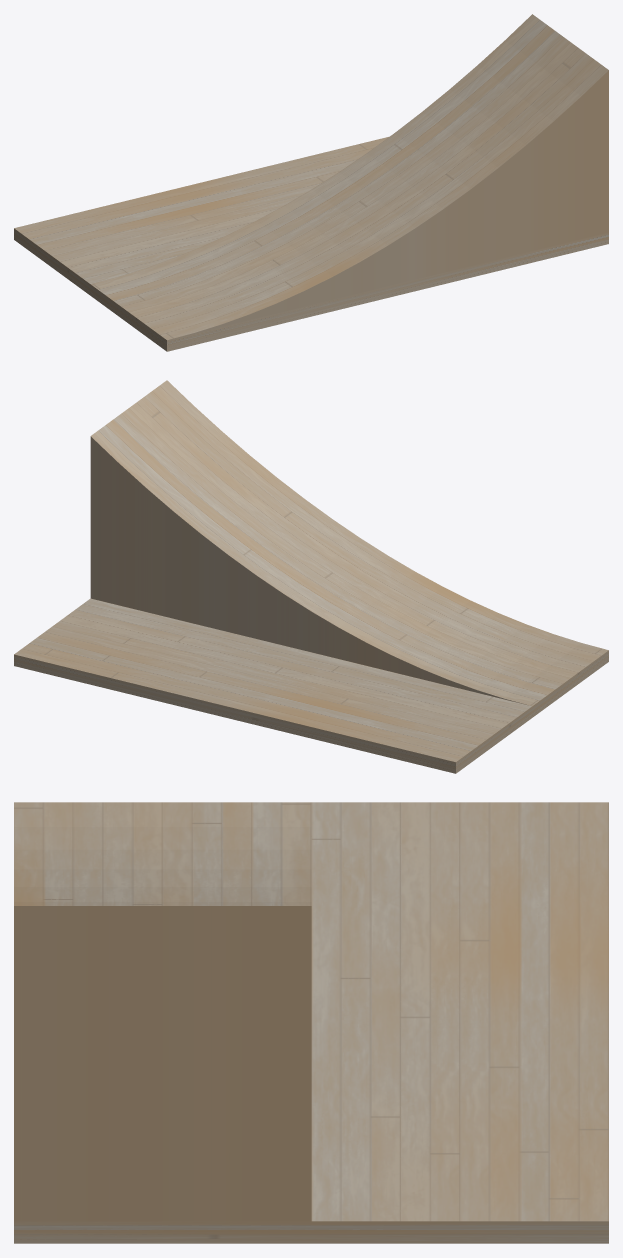
Rendered from @Tag.Ground.5.obj.
3 renders of one model, top to bottom at view 1: azimuth 30°, elevation 25°; view 2: azimuth 150°, elevation 25°; view 3: azimuth 270°, elevation 25°, orthographic. The views are drawn at different scales.
Visible parts, largest first — view 1: GroundSlopeR.001; view 2: GroundSlopeR.001; view 3: GroundSlopeR.001.
Boxes of the visible parts, bbox=[...] form: GroundSlopeR.001: bbox=[14, 14, 608, 351]; GroundSlopeR.001: bbox=[14, 380, 608, 773]; GroundSlopeR.001: bbox=[14, 802, 608, 1243].
Size of the model in its own units: 80 by 30.08 by 48.
Materials: 1 (1 with a texture image).
